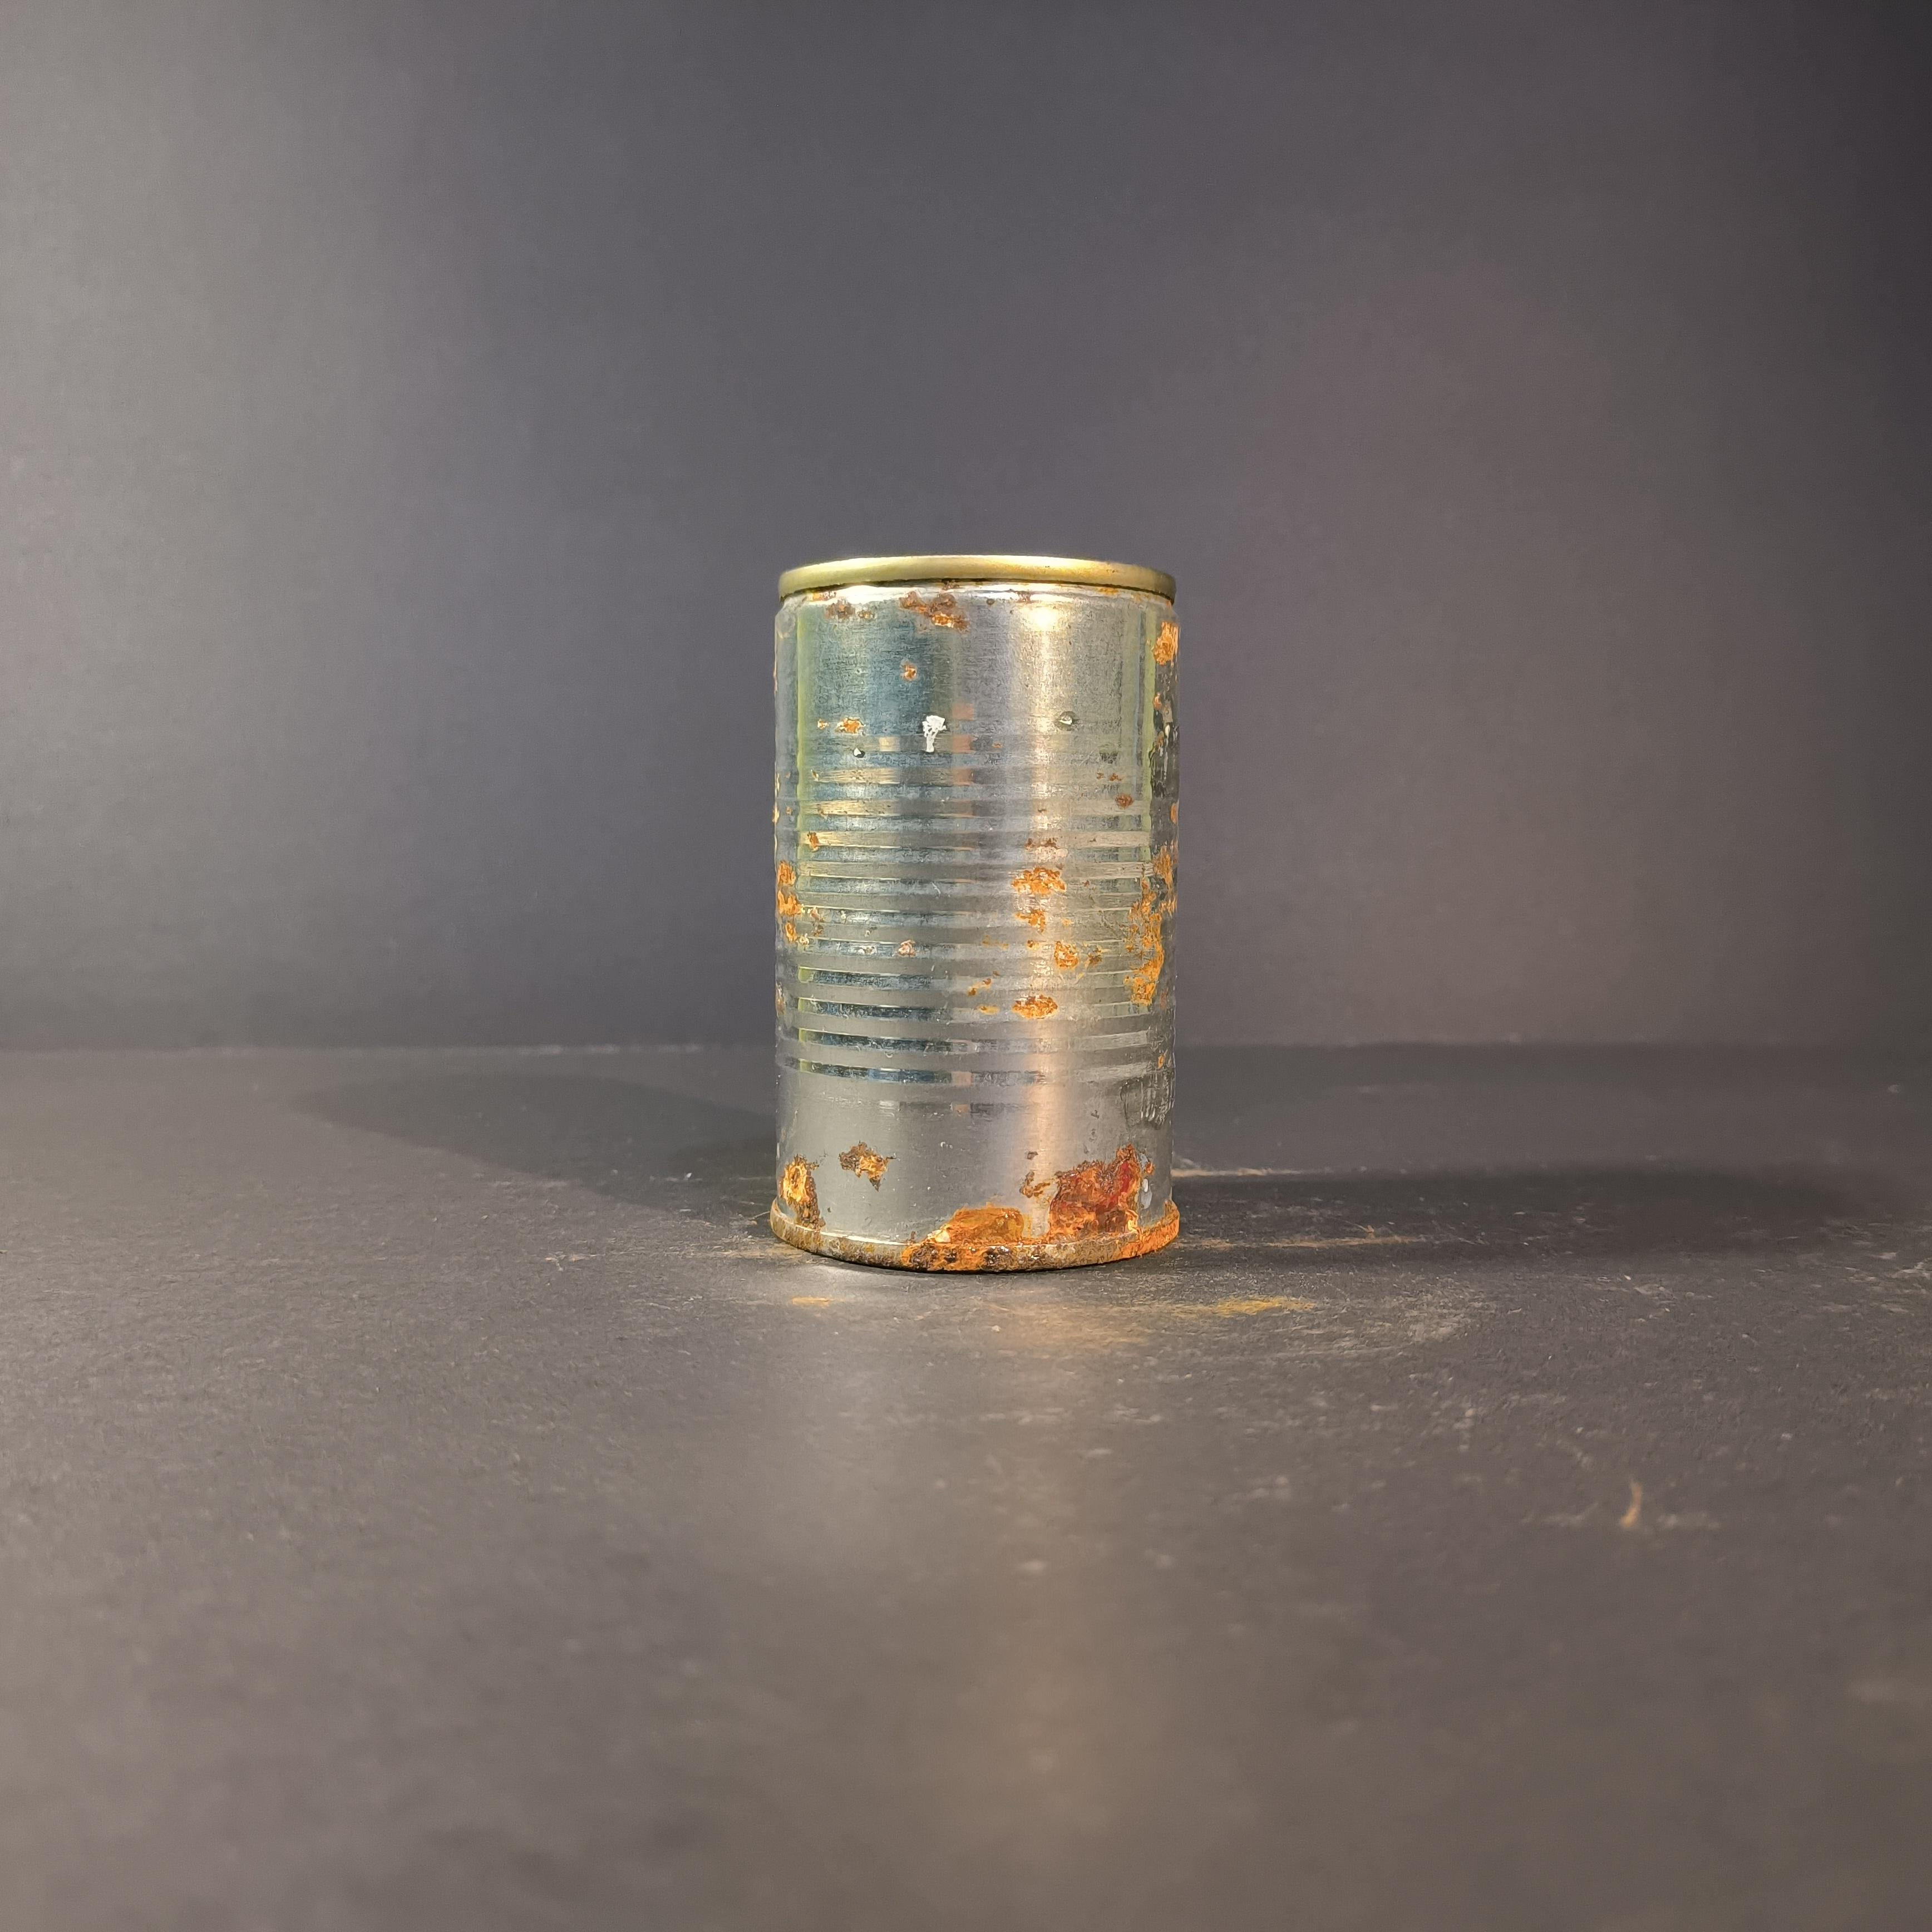Major Defect: (761, 543, 1189, 1286)
